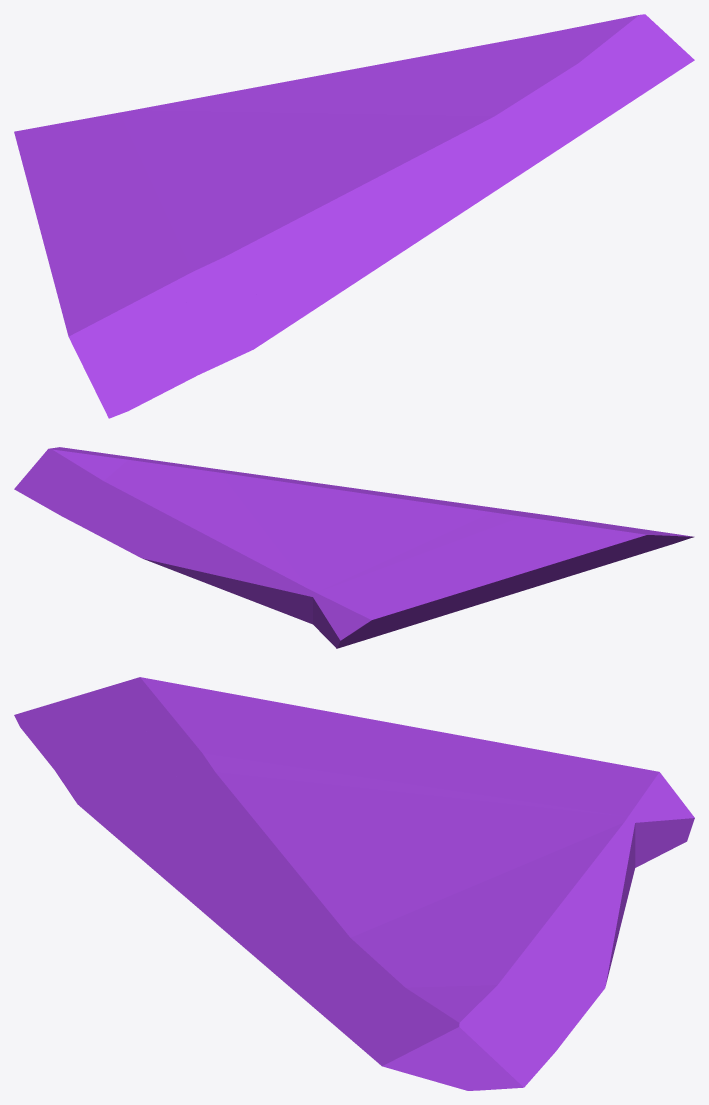
The model's file is Glass_100_2_11_chunks.fbx.
3 views of the same model, one above another, from view 1: azimuth 30°, elevation 25°; view 2: azimuth 150°, elevation 25°; view 3: azimuth 270°, elevation 25° (orthographic). The views are drawn at different scales.
Parts seen in each view (by area): view 1: Glass_100_2_11_2, Glass_100_2_11_0, Glass_100_2_11_1, Glass_100_2_11_4, Glass_100_2_11_6, Glass_100_2_11_5; view 2: Glass_100_2_11_2, Glass_100_2_11_1, Glass_100_2_11_0, Glass_100_2_11_5, Glass_100_2_11_3, Glass_100_2_11_4; view 3: Glass_100_2_11_2, Glass_100_2_11_1, Glass_100_2_11_0, Glass_100_2_11_4, Glass_100_2_11_6, Glass_100_2_11_5, Glass_100_2_11_3.
Part boxes in pixels (x1,y1,x2,y2): Glass_100_2_11_2: [14, 104, 343, 352]; Glass_100_2_11_0: [302, 51, 694, 310]; Glass_100_2_11_1: [165, 14, 684, 135]; Glass_100_2_11_4: [102, 291, 312, 418]; Glass_100_2_11_6: [193, 250, 308, 299]; Glass_100_2_11_5: [76, 325, 136, 404]; Glass_100_2_11_2: [287, 498, 655, 640]; Glass_100_2_11_1: [14, 447, 305, 618]; Glass_100_2_11_0: [58, 447, 487, 514]; Glass_100_2_11_5: [430, 527, 686, 618]; Glass_100_2_11_3: [297, 609, 434, 648]; Glass_100_2_11_4: [476, 506, 694, 547]; Glass_100_2_11_2: [116, 677, 694, 877]; Glass_100_2_11_1: [396, 835, 633, 1090]; Glass_100_2_11_0: [118, 824, 414, 1070]; Glass_100_2_11_4: [14, 708, 163, 838]; Glass_100_2_11_6: [147, 757, 206, 834]; Glass_100_2_11_5: [36, 684, 140, 721]; Glass_100_2_11_3: [632, 817, 694, 878].
Size of the model in its own units: 753 by 85.6 by 508.
